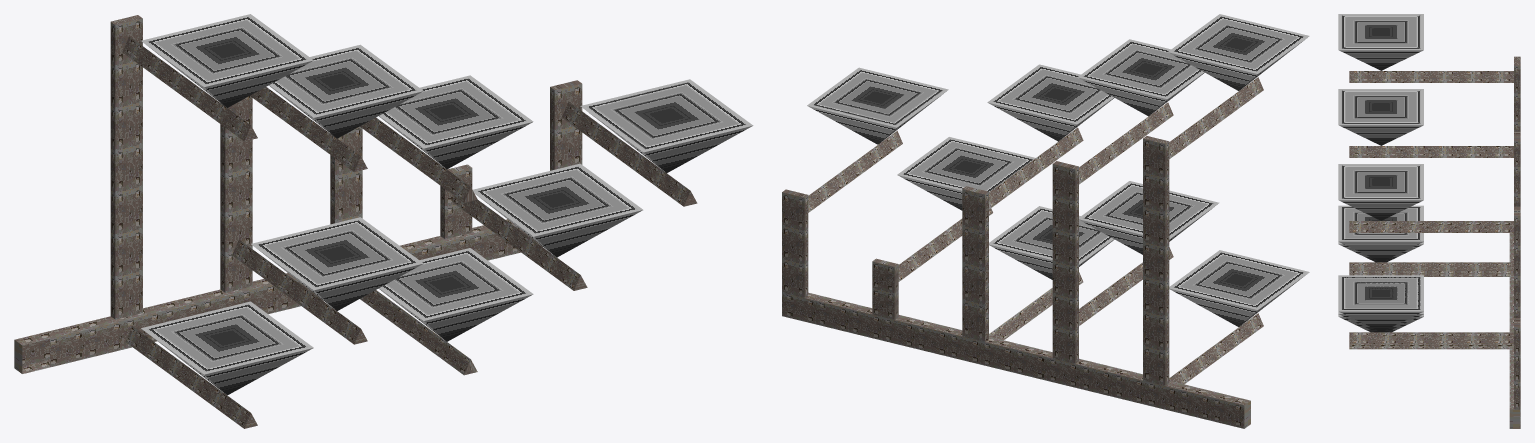
File: rc_dorifu0.obj
3 renders of one model, left to right at view 1: azimuth 30°, elevation 25°; view 2: azimuth 150°, elevation 25°; view 3: azimuth 270°, elevation 25°, orthographic. The views are drawn at different scales.
Visible parts, largest first — view 1: world_root; view 2: world_root; view 3: world_root.
Part boxes in pixels (left/top/right/bottom): world_root: left=14, top=14, right=753, bottom=428; world_root: left=782, top=14, right=1309, bottom=428; world_root: left=1338, top=14, right=1520, bottom=428.
Bounding box in the file's own units: 275 × 159 × 106.
